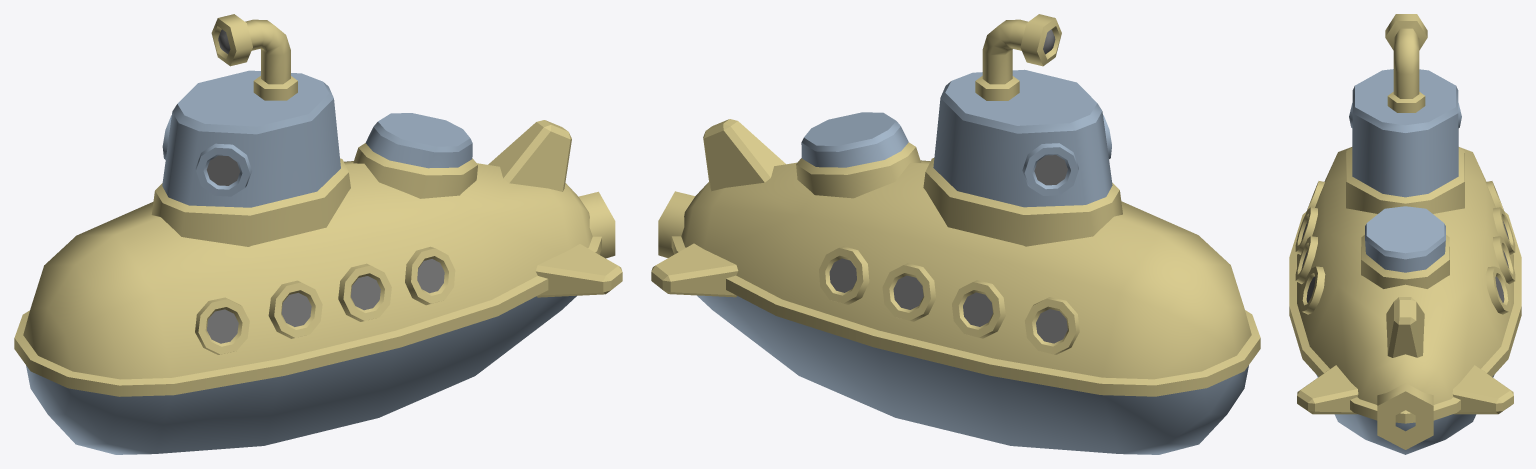
Rendered from SubmarineMesh.fbx.
The picture shows the model from 3 angles, left to right: view 1: azimuth 30°, elevation 25°; view 2: azimuth 150°, elevation 25°; view 3: azimuth 270°, elevation 25°; orthographic projection. The views are drawn at different scales.
Parts seen in each view (by area): view 1: VEHICLE_Submarine; view 2: VEHICLE_Submarine; view 3: VEHICLE_Submarine.
Boxes of the visible parts, <box> form: VEHICLE_Submarine: <box>14,14,622,454</box>; VEHICLE_Submarine: <box>651,14,1260,454</box>; VEHICLE_Submarine: <box>1289,14,1521,454</box>.
Size of the model in its own units: 535 by 379 by 222.
